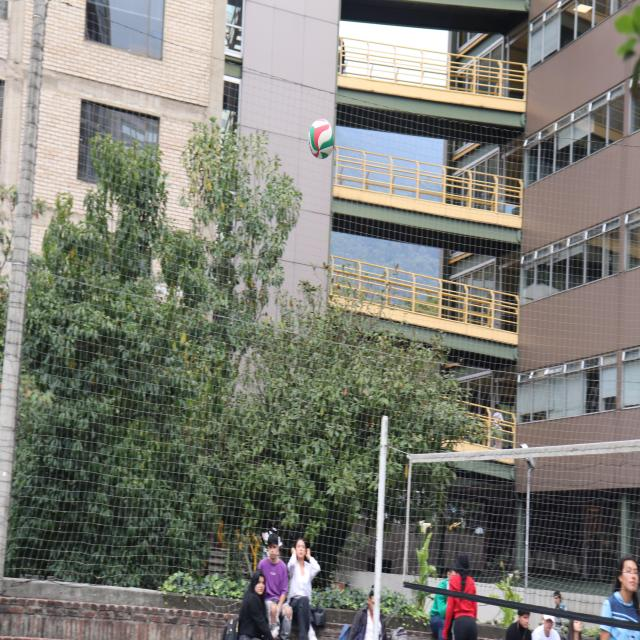volleyball: (308, 119, 335, 160)
